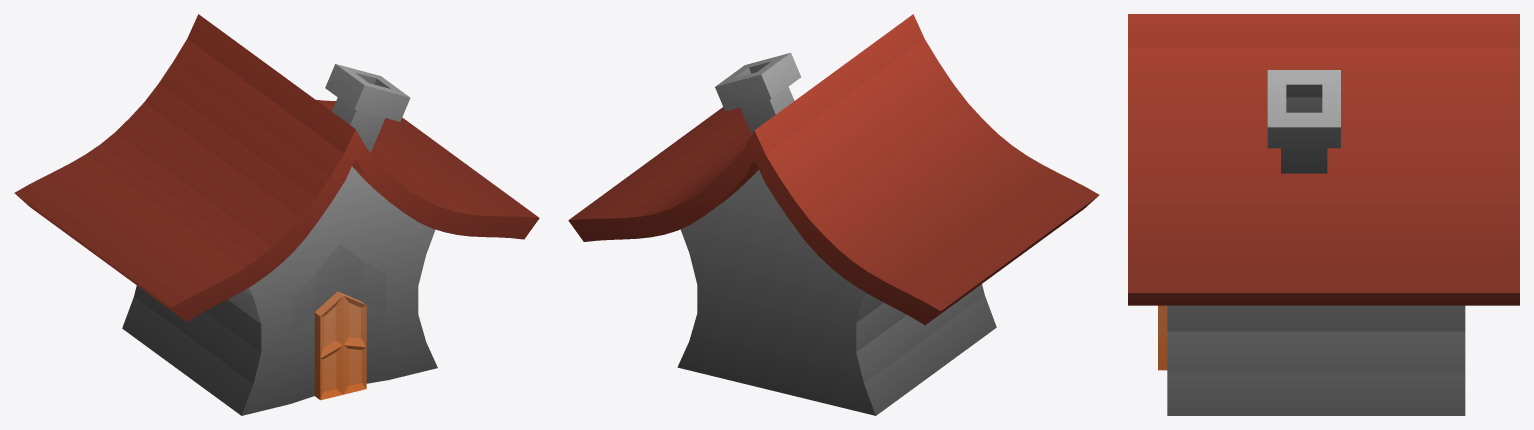
File: casa.fbx
3 views of the same model, side by side, from view 1: azimuth 30°, elevation 25°; view 2: azimuth 150°, elevation 25°; view 3: azimuth 270°, elevation 25° (orthographic). The views are drawn at different scales.
Parts seen in each view (by area): view 1: pCube8, Cube; view 2: pCube8, Cube; view 3: pCube8, Cube.
Part boxes in pixels (x1,y1,x2,y2): pCube8: (14, 14, 539, 415); Cube: (325, 64, 410, 152); pCube8: (568, 14, 1099, 415); Cube: (715, 52, 800, 134); pCube8: (1128, 14, 1519, 415); Cube: (1267, 70, 1340, 173).
Size of the model in its own units: 189 by 134 by 139.
